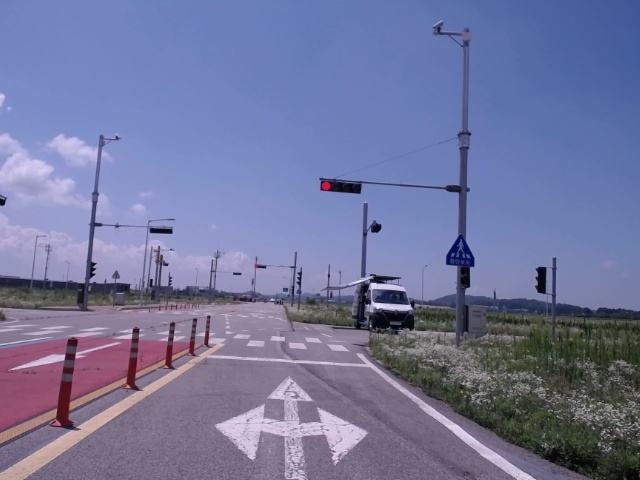red_4: (321, 181, 360, 193)
